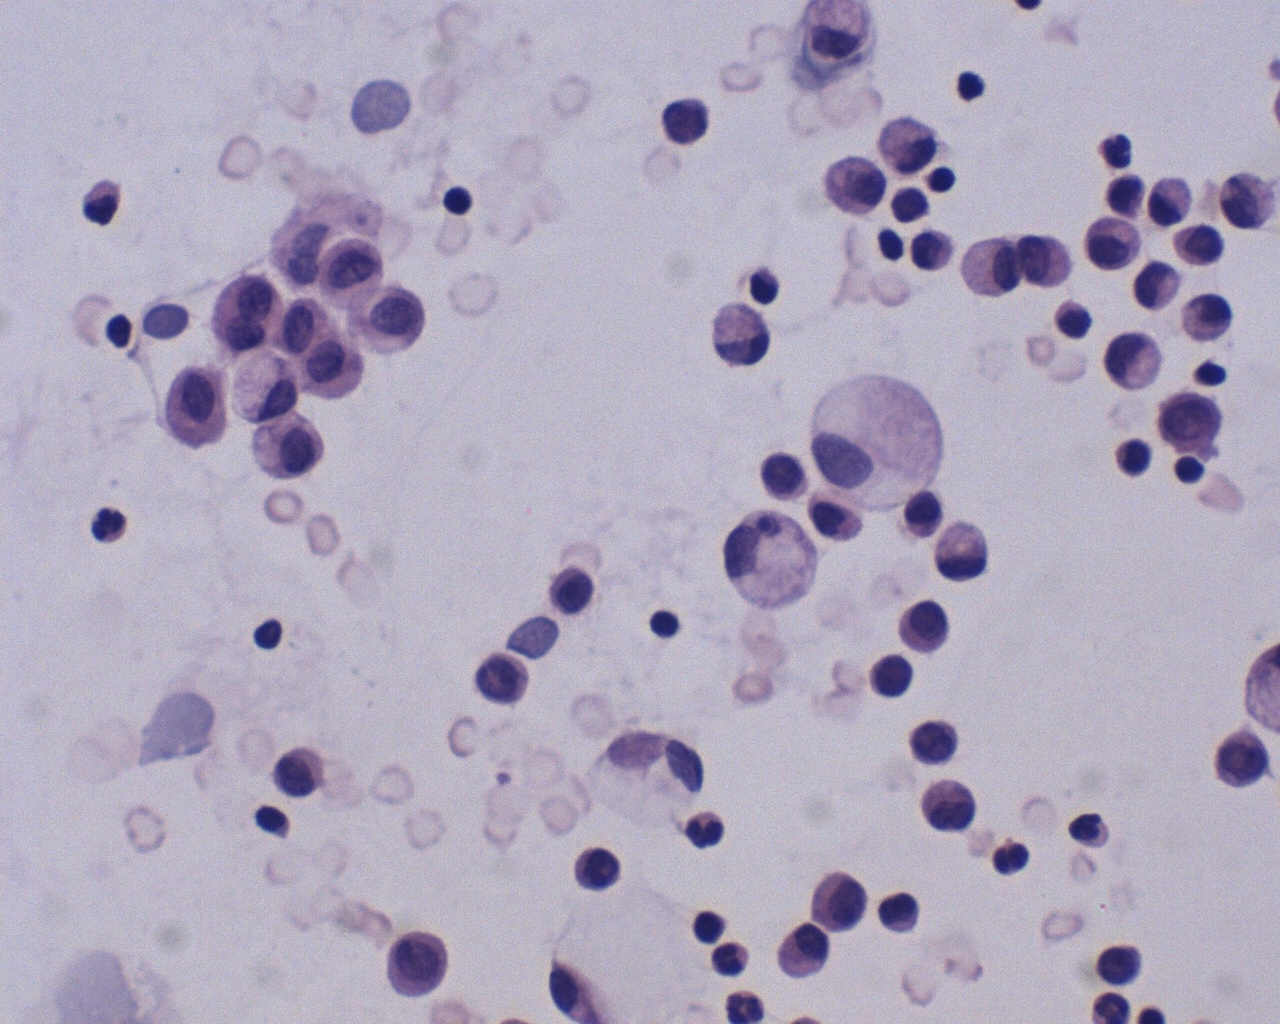ab: (380, 924, 456, 1005), (819, 155, 894, 222), (1154, 386, 1225, 453), (806, 868, 871, 935), (1215, 724, 1271, 792), (905, 712, 965, 772), (571, 840, 625, 900)
histo: (811, 375, 952, 511), (718, 508, 819, 615)
lymph: (248, 613, 290, 658), (647, 602, 690, 643), (1170, 453, 1209, 491), (441, 183, 478, 220), (925, 157, 958, 197)
meso: (159, 363, 243, 453), (206, 272, 290, 358), (245, 408, 331, 487), (1104, 326, 1174, 396), (895, 588, 960, 660), (960, 230, 1023, 301), (1083, 210, 1149, 270), (774, 925, 833, 988)
neutro: (679, 805, 731, 854), (1096, 126, 1139, 174), (89, 501, 133, 546), (708, 939, 757, 981)
